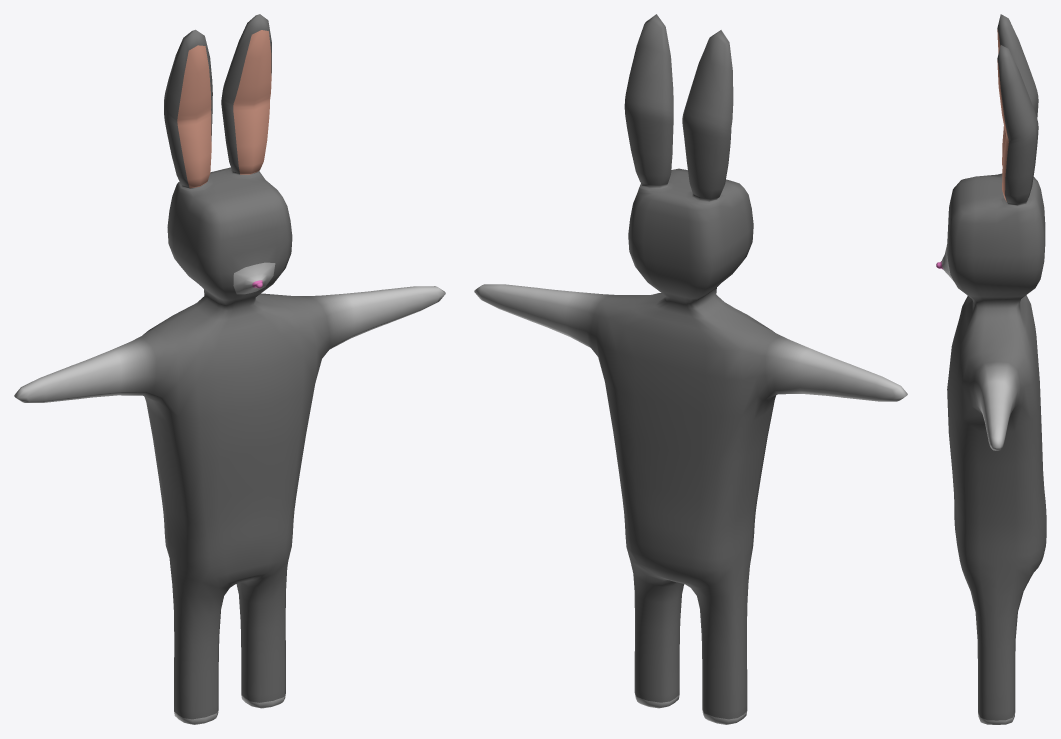
File: Bunny.fbx
3 views of the same model, side by side, from view 1: azimuth 30°, elevation 25°; view 2: azimuth 150°, elevation 25°; view 3: azimuth 270°, elevation 25° (orthographic). The views are drawn at different scales.
Parts seen in each view (by area): view 1: Cube; view 2: Cube; view 3: Cube.
Boxes of the visible parts, <box> form: Cube: <box>14,14,445,724</box>; Cube: <box>474,14,907,724</box>; Cube: <box>936,14,1046,724</box>.
Bounding box in the file's own units: 85.1 × 130 × 19.27.
1 material, 1 textured.
